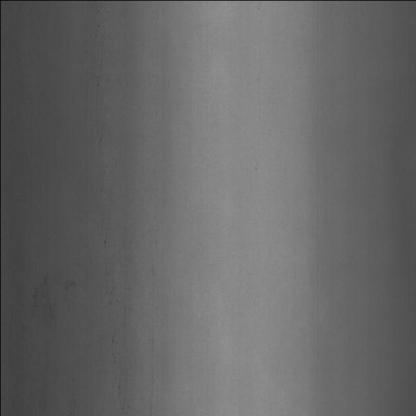inclusion: (89, 19, 114, 223), (103, 236, 132, 408), (25, 251, 81, 336)
